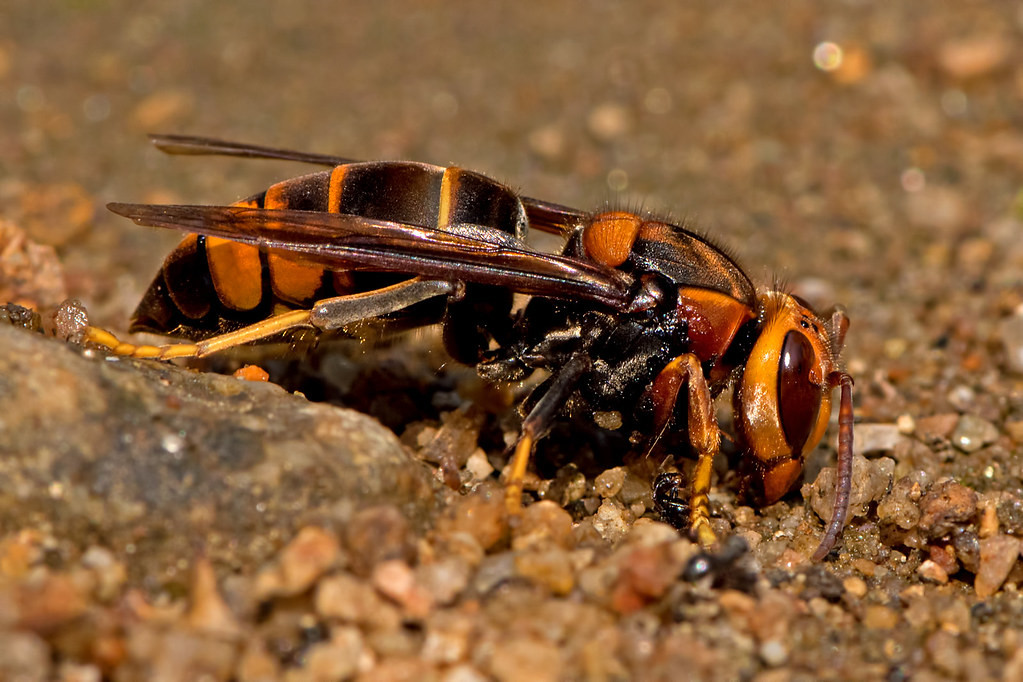hornet: (64, 108, 871, 577)
